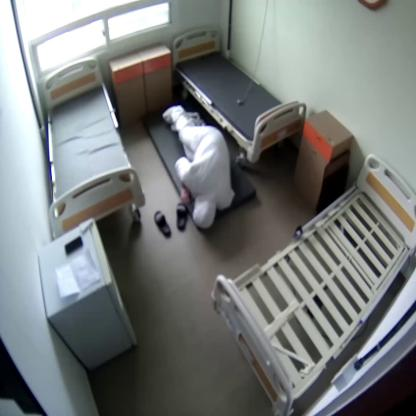Bed: (173, 26, 307, 157)
Person: (164, 105, 235, 226)
